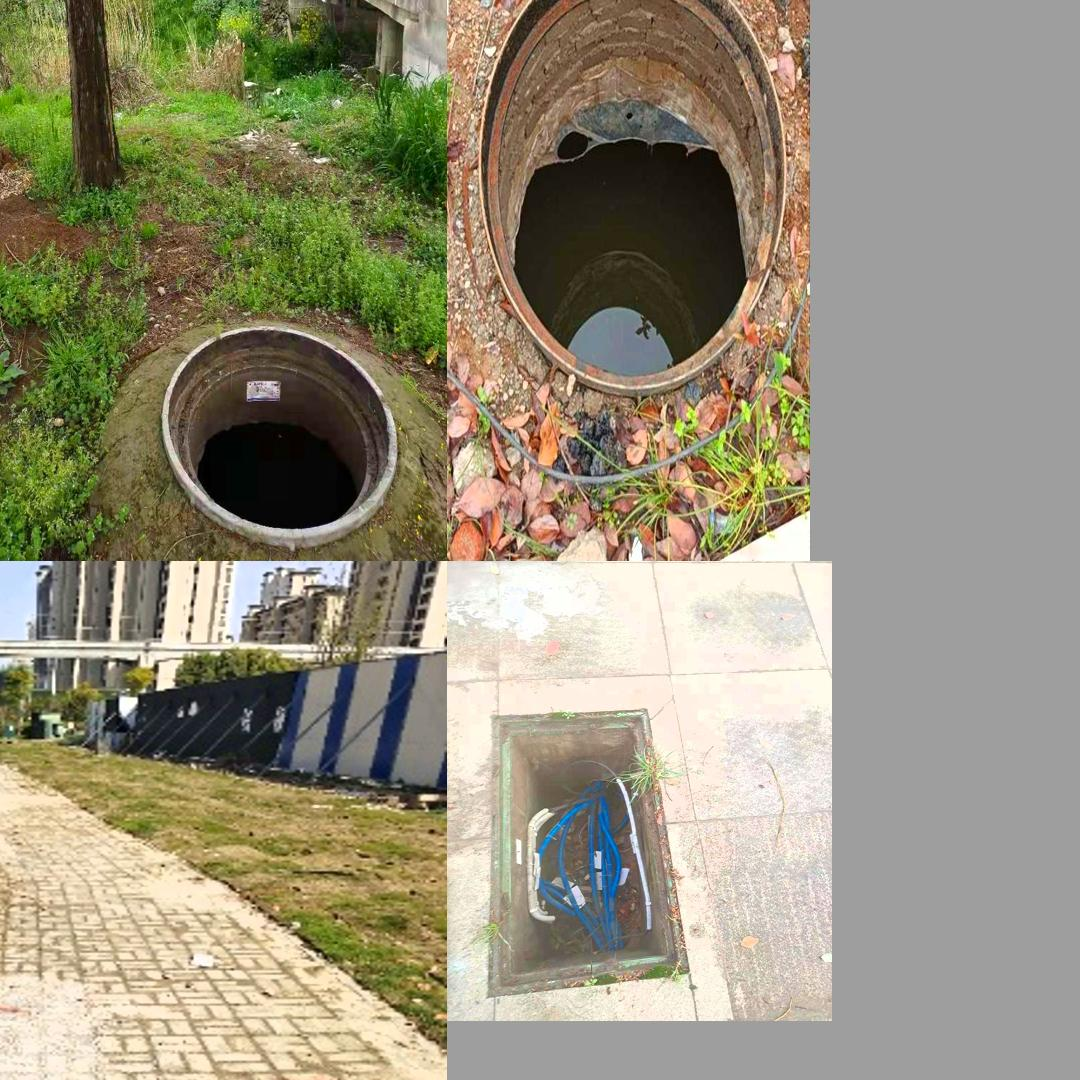lose: (472, 0, 793, 400), (142, 323, 406, 537), (485, 708, 684, 983)
